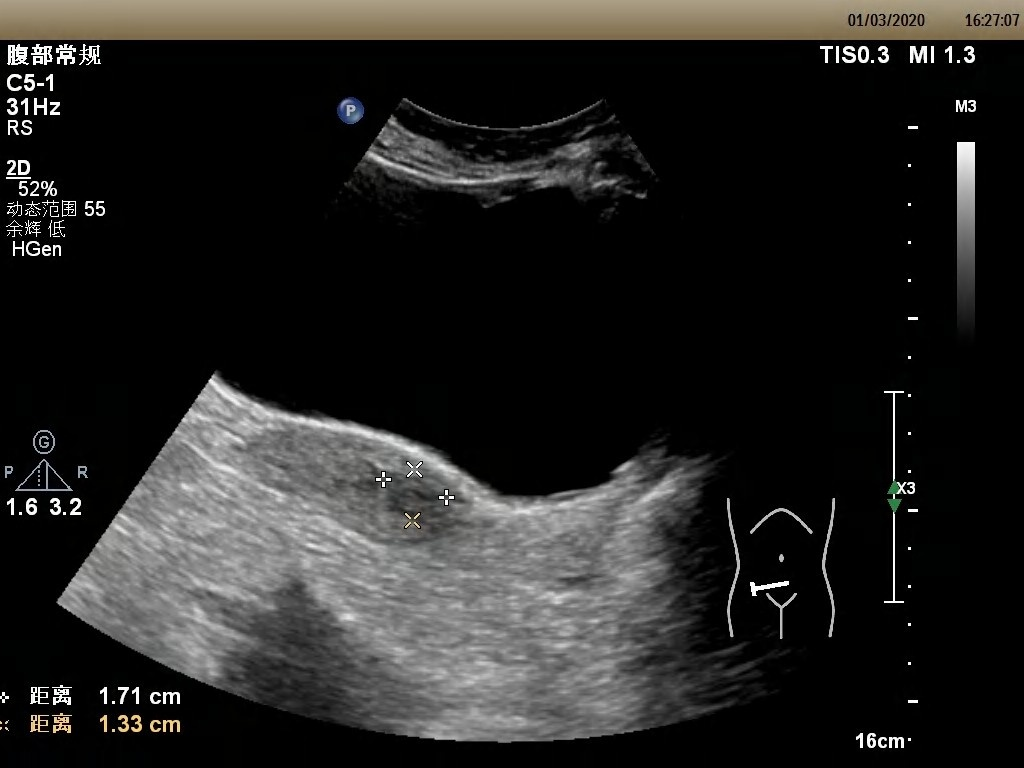肌瘤: (384, 468, 448, 520)
